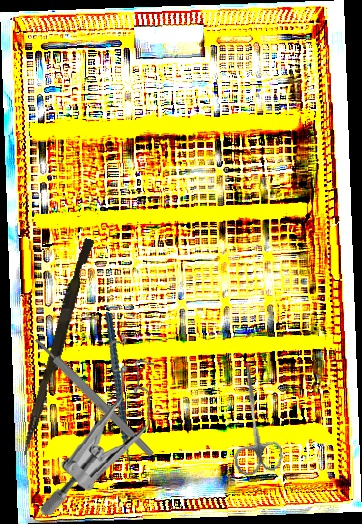Chopper: (75, 311, 173, 483)
Iris Scissors: (221, 359, 285, 477)
Pusher: (20, 236, 95, 458)
Scalpel Handle: (32, 335, 156, 459)
Speculum: (38, 329, 159, 521)
